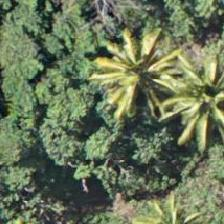coconut_tree: (102, 25, 192, 115)
